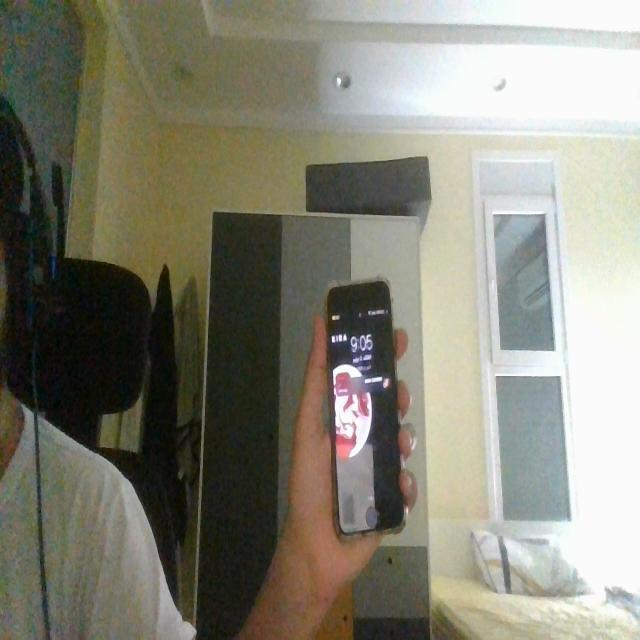Phone: (323, 275, 410, 545)
